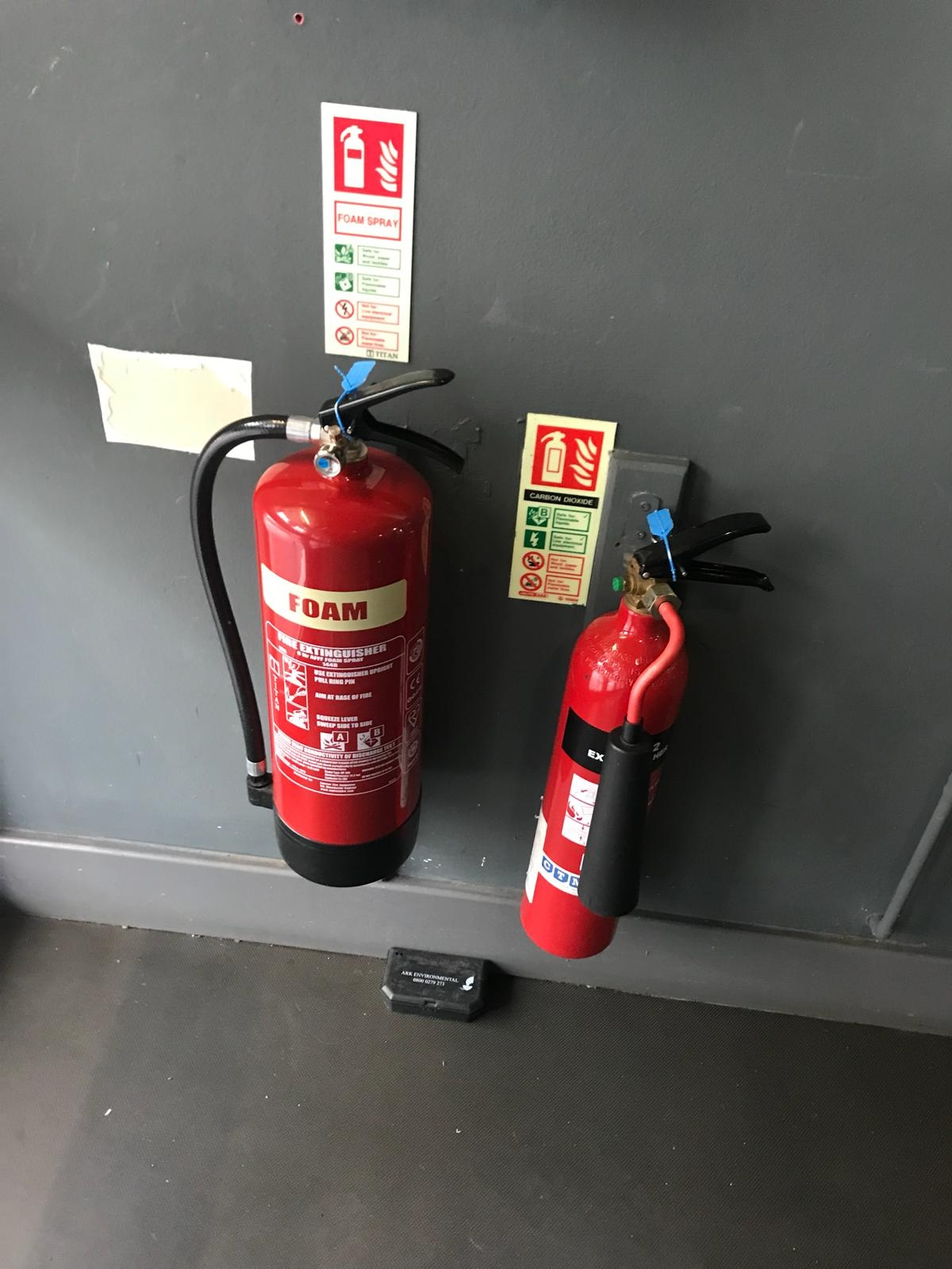fire_extinguisher: (188, 361, 466, 889), (518, 506, 775, 961)
